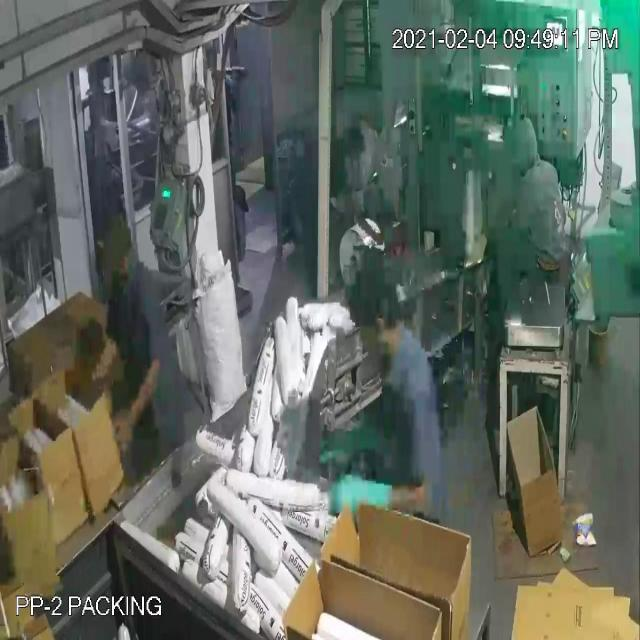No_Gloves: (68, 68, 352, 490)
